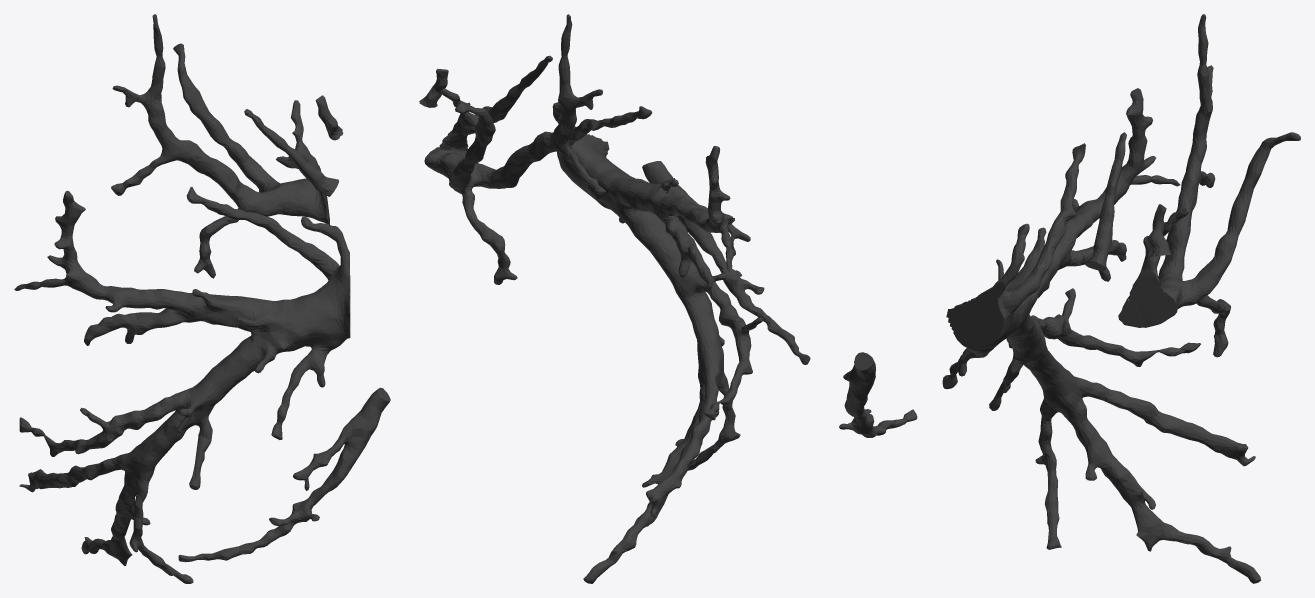
The model's file is Hepatic_vvs_R.glb.
3 renders of one model, left to right at view 1: azimuth 30°, elevation 25°; view 2: azimuth 150°, elevation 25°; view 3: azimuth 270°, elevation 25°, orthographic. The views are drawn at different scales.
Parts seen in each view (by area): view 1: Hepatic_vvs_R; view 2: Hepatic_vvs_R; view 3: Hepatic_vvs_R.
Boxes of the visible parts, x1=… form: Hepatic_vvs_R: x1=14, y1=14, x2=390, y2=583; Hepatic_vvs_R: x1=419, y1=14, x2=810, y2=583; Hepatic_vvs_R: x1=839, y1=14, x2=1300, y2=583.
Bounding box in the file's own units: 0.7332 × 1.2 × 0.8461.
Materials: 1 (1 with a texture image).
